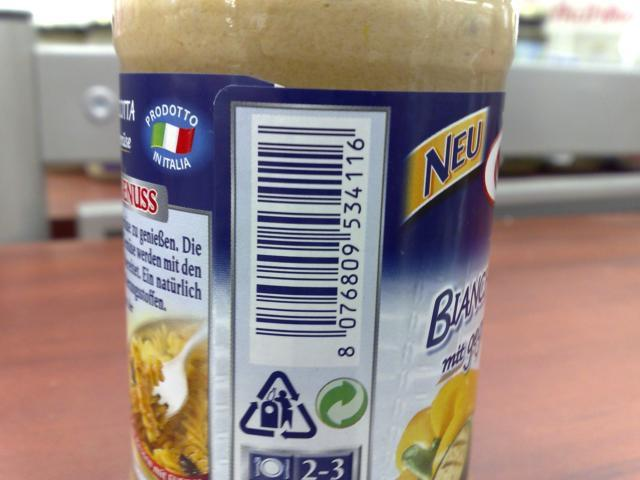Barcode: (250, 119, 370, 360)
